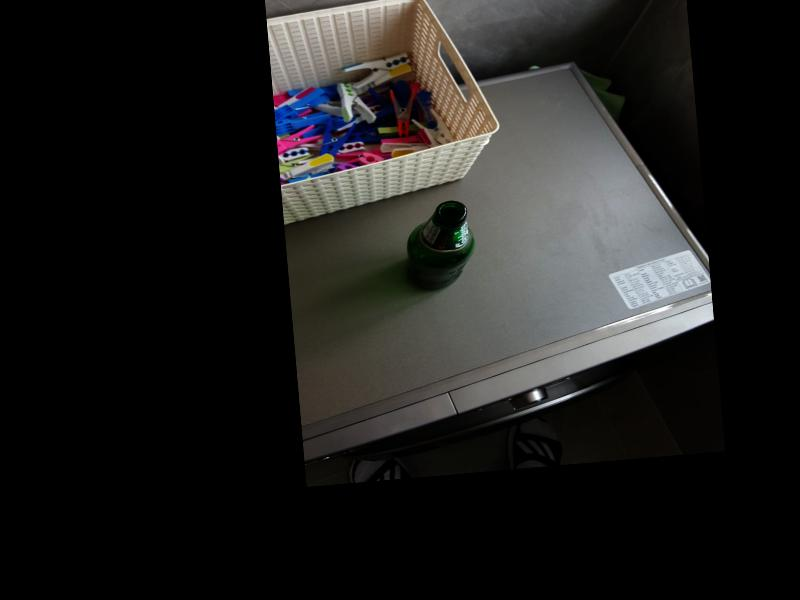Beer: (401, 200, 474, 293)
